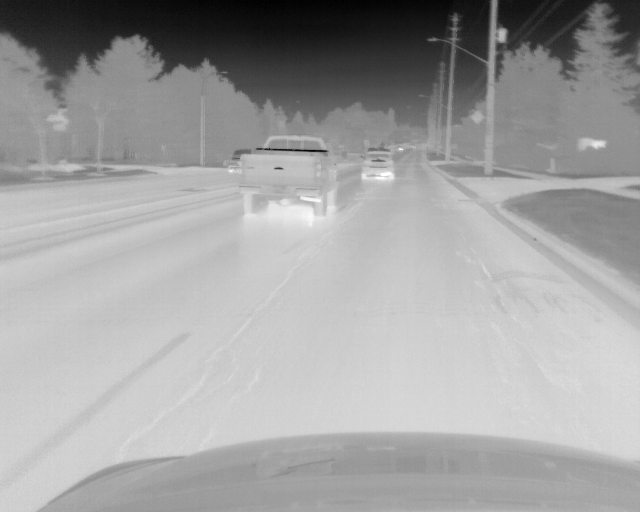car: (235, 135, 340, 220), (358, 150, 396, 184), (225, 146, 255, 176)
